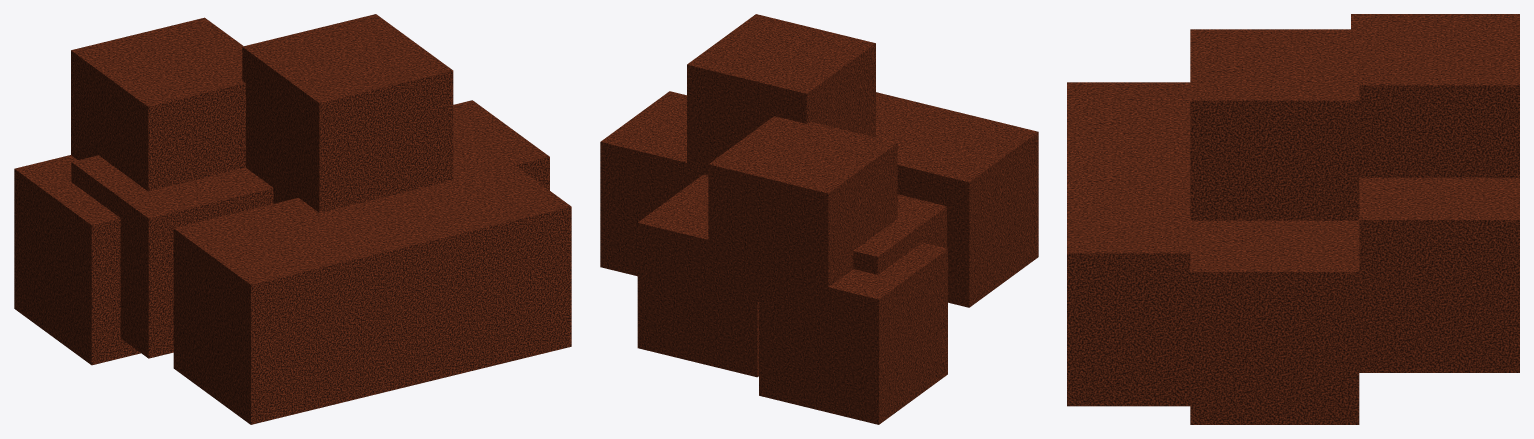
Rendered from rock_wall_model.gltf.
3 views of the same model, side by side, from view 1: azimuth 30°, elevation 25°; view 2: azimuth 150°, elevation 25°; view 3: azimuth 270°, elevation 25° (orthographic). The views are drawn at different scales.
Parts seen in each view (by area): view 1: RockWall2; view 2: RockWall2; view 3: RockWall2.
Boxes of the visible parts, x1,y1,x2,y2 form: RockWall2: (14, 14, 571, 424); RockWall2: (600, 14, 1038, 424); RockWall2: (1067, 14, 1519, 424).
Size of the model in its own units: 1.15 by 0.7946 by 1.07.
Materials: 1 (1 with a texture image).
